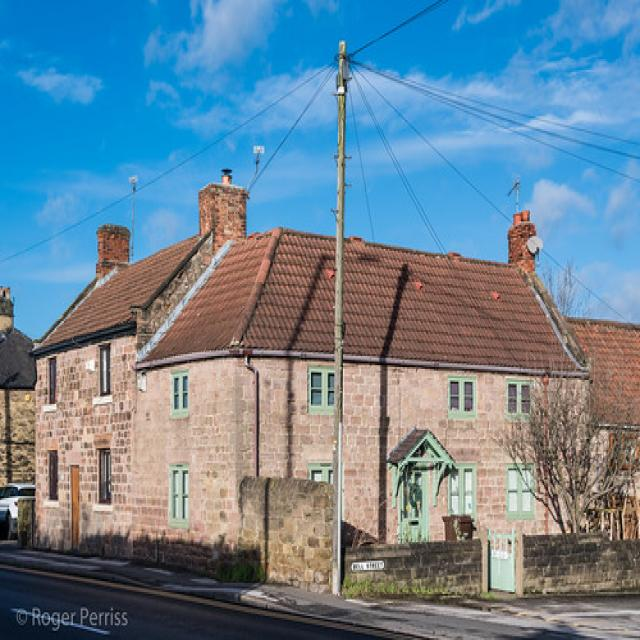Normal_building: (26, 182, 583, 582)
